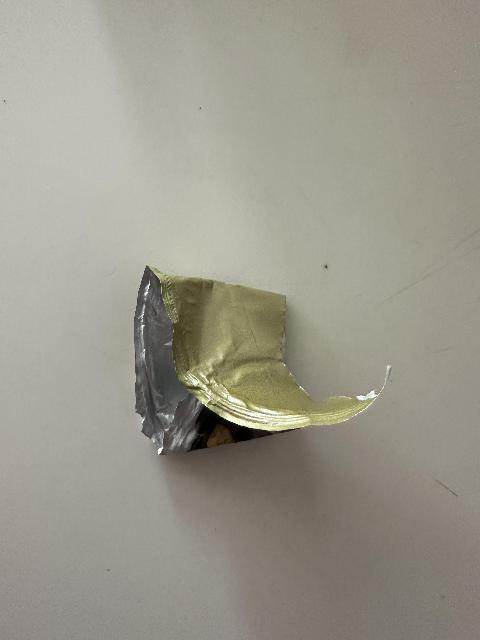Plastik: (117, 243, 389, 475)
